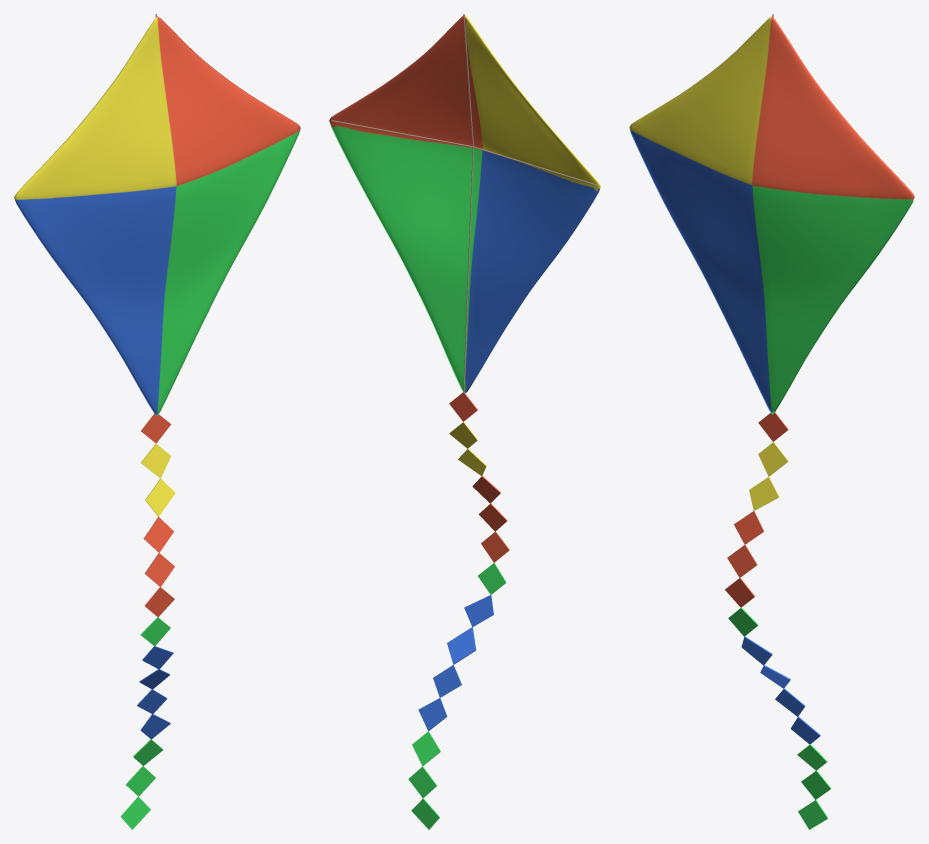
File: kite.fbx
3 views of the same model, side by side, from view 1: azimuth 30°, elevation 25°; view 2: azimuth 150°, elevation 25°; view 3: azimuth 330°, elevation 25° (orthographic). The views are drawn at different scales.
Parts seen in each view (by area): view 1: Plane; view 2: Plane; view 3: Plane.
Boxes of the visible parts, x1=… form: Plane: x1=14, y1=14, x2=300, y2=829; Plane: x1=329, y1=14, x2=600, y2=829; Plane: x1=629, y1=14, x2=914, y2=829.
Bounding box in the file's own units: 147 × 410 × 45.42.
2 materials, 2 textured.
